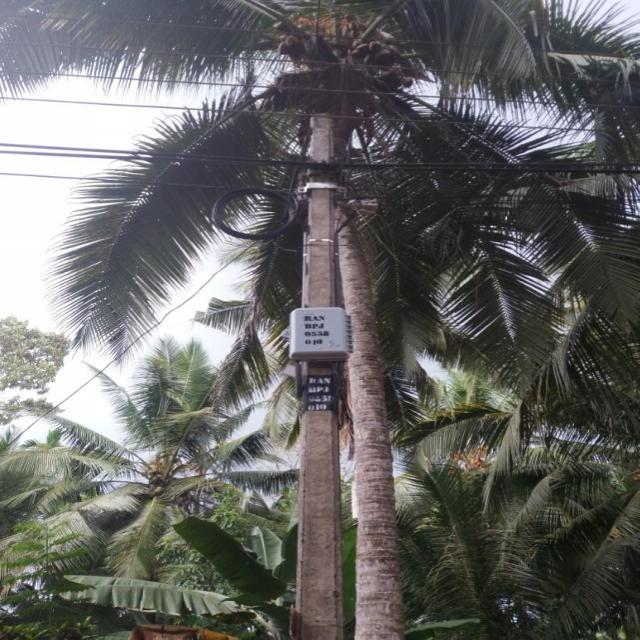light_pole: (286, 101, 360, 640)
